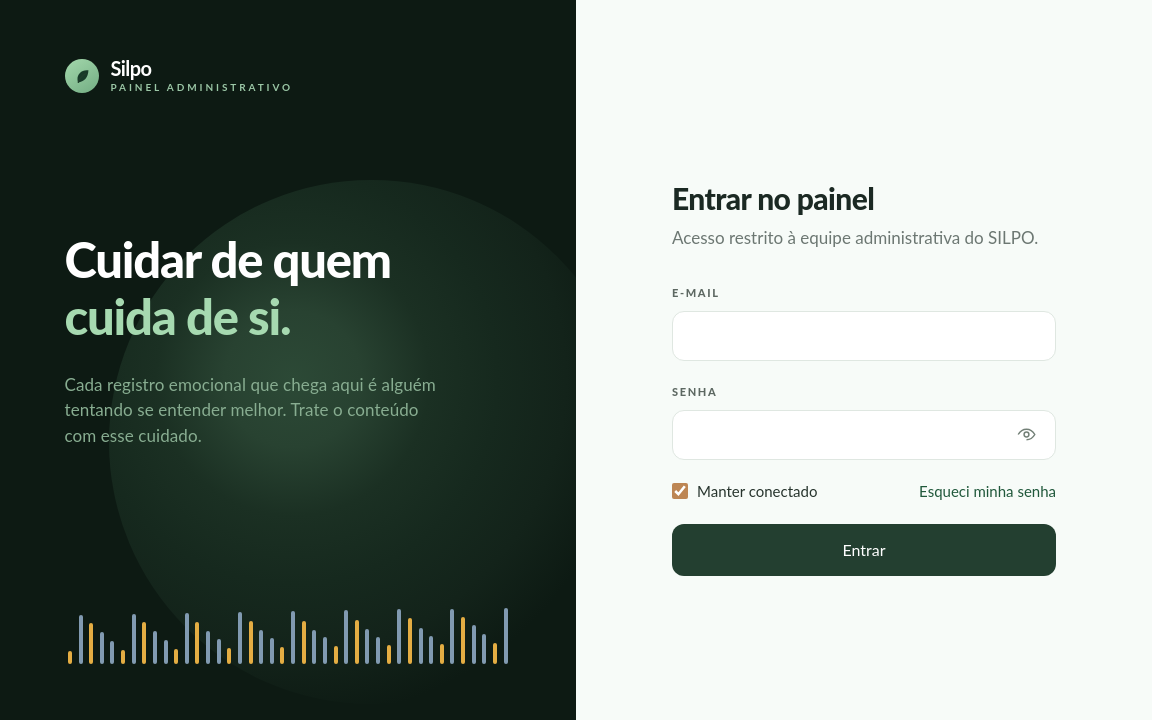
admin authentication › refuses accounts without the ADMIN role
The image size is (1152, 720).
Type "admin@silpo.org" into the field labelled "E-mail" at (864,336), box left=672, top=311, right=1056, bottom=361
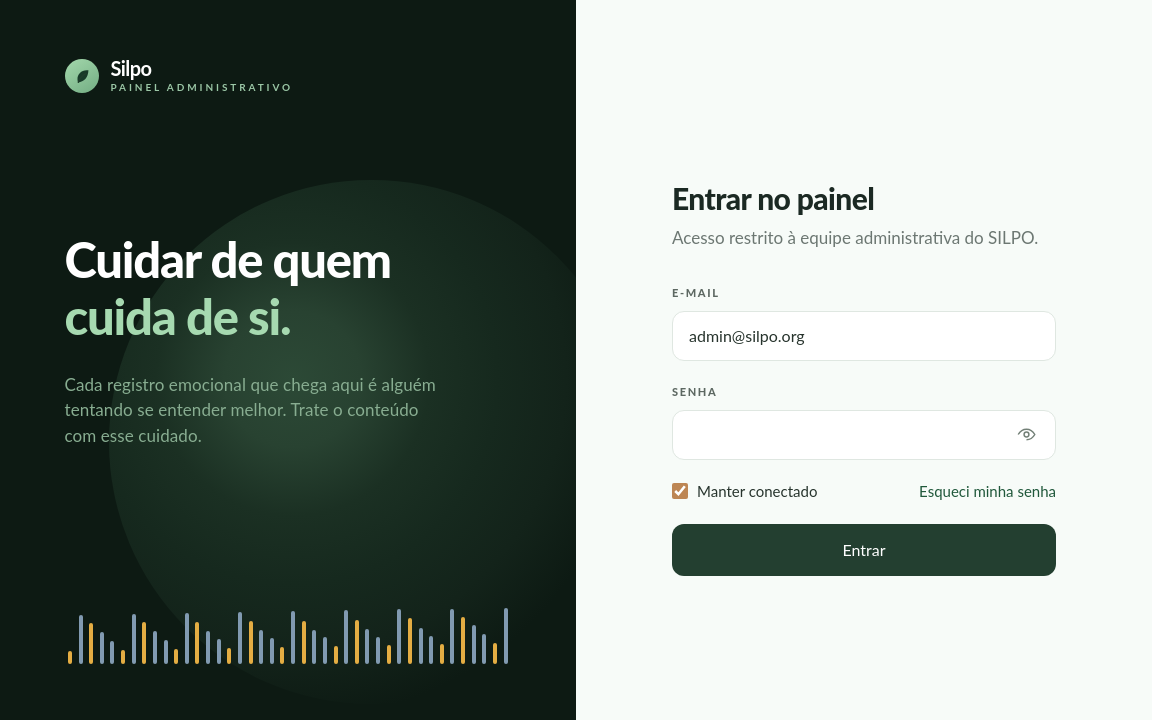
Type "senha-segura" into the password field labelled "Senha" at (864,435), box left=672, top=410, right=1056, bottom=460
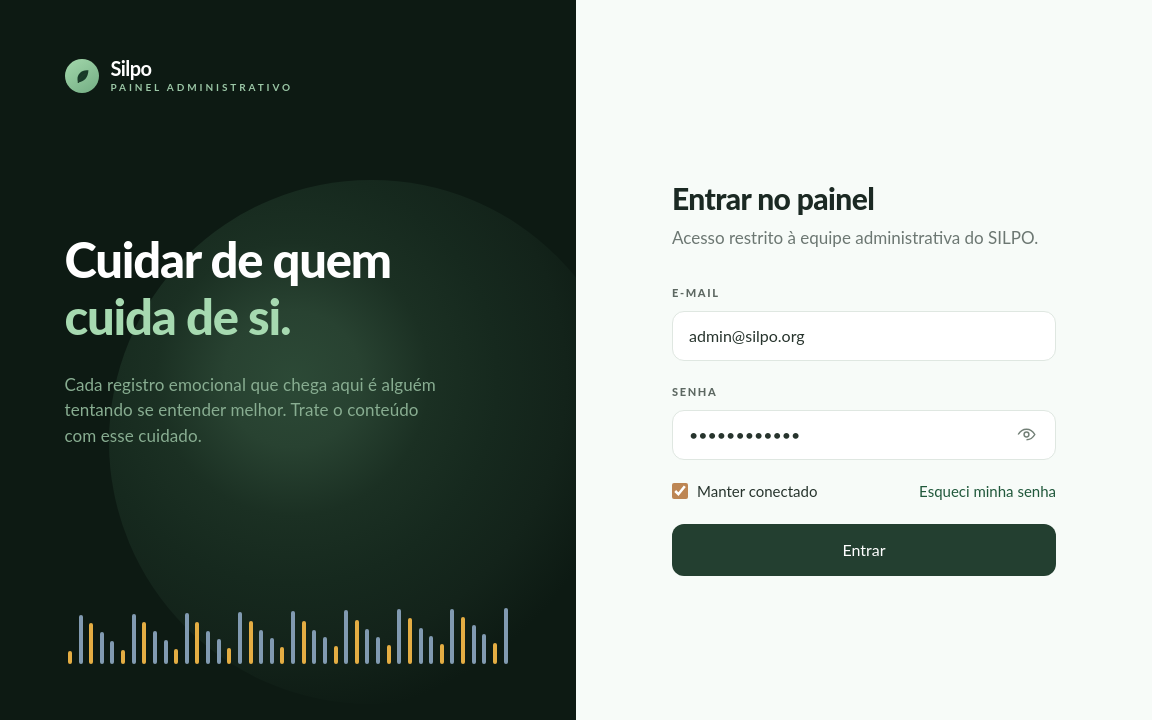
Click the button "Entrar" at (864,550), box left=672, top=524, right=1056, bottom=576
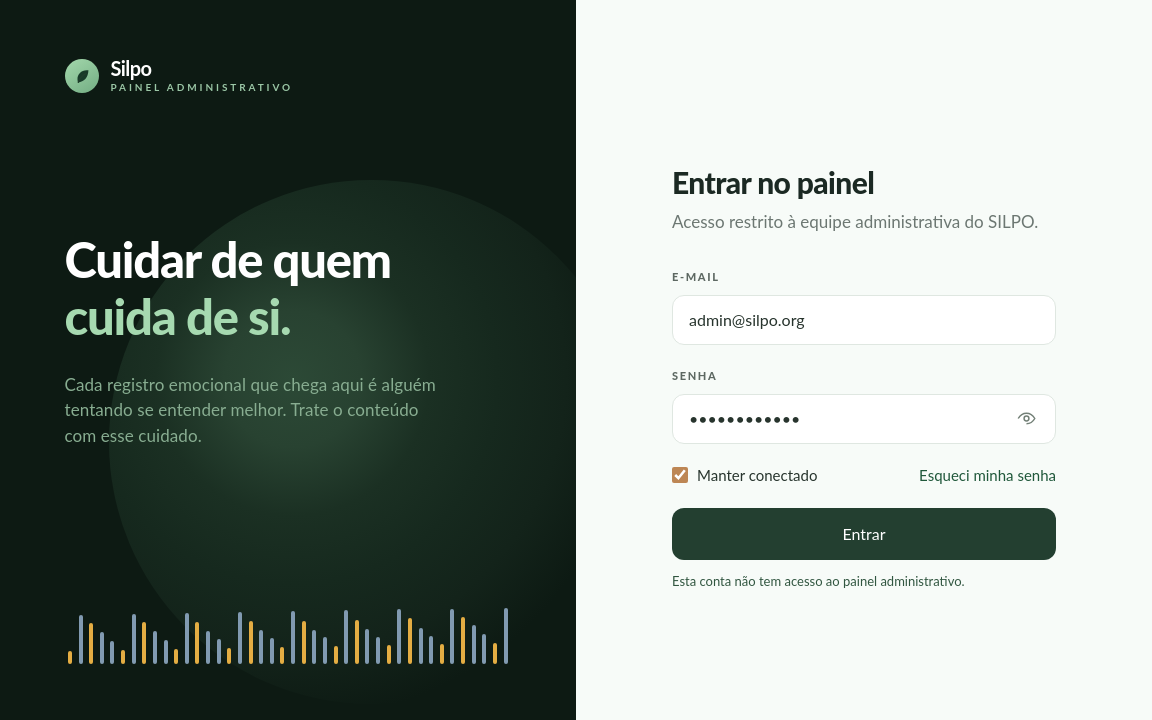
Result: the text "Esta conta não tem acesso ao painel administrativo." is shown at left=672, top=573, right=965, bottom=589
